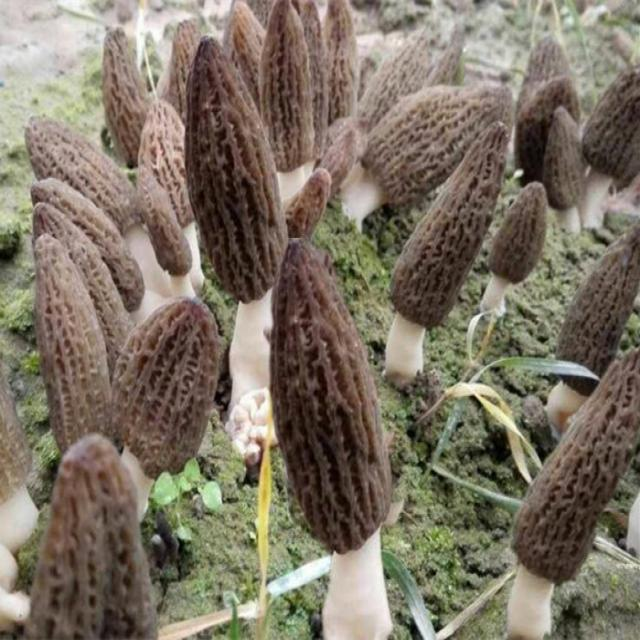Morchella esculenta: (279, 238, 394, 640), (506, 354, 636, 640), (191, 38, 278, 454), (388, 121, 508, 383), (28, 436, 156, 640), (105, 298, 216, 530), (541, 228, 640, 431), (34, 236, 112, 449), (582, 75, 640, 248), (485, 182, 547, 317), (548, 101, 584, 233)
